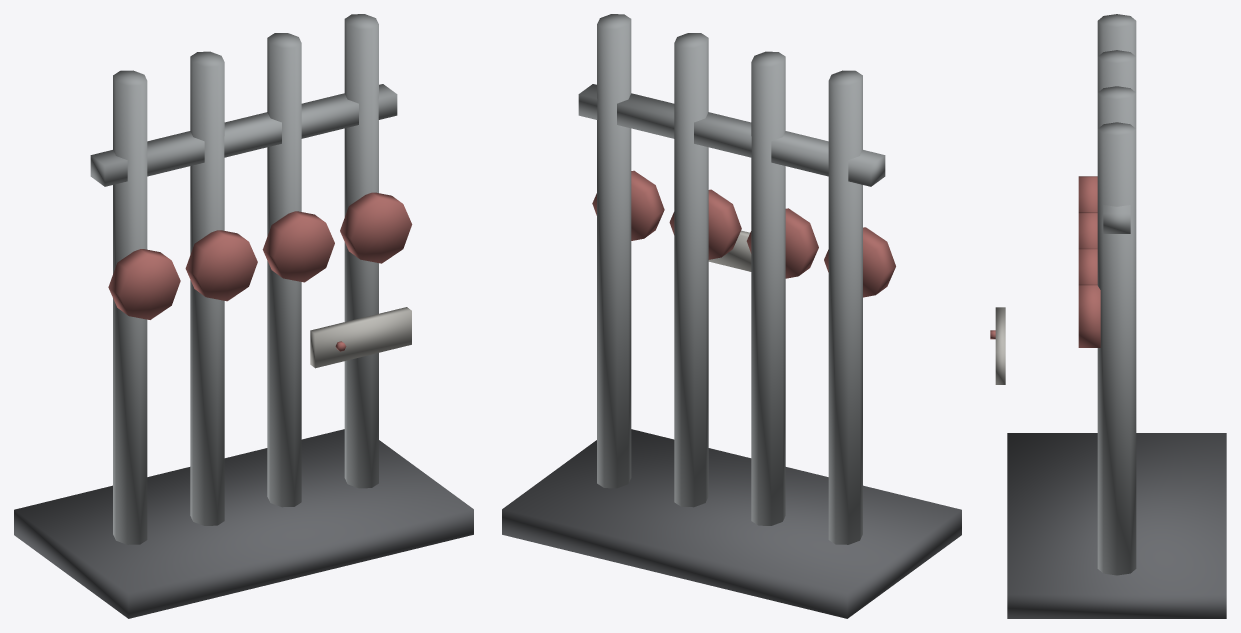
File: sprinkler_riser__deep.glb
3 renders of one model, left to right at view 1: azimuth 30°, elevation 25°; view 2: azimuth 150°, elevation 25°; view 3: azimuth 270°, elevation 25°, orthographic. The views are drawn at different scales.
Parts seen in each view (by area): view 1: world; view 2: world; view 3: world.
Boxes of the visible parts, x1,y1,x2,y2 form: world: (14, 14, 473, 618); world: (502, 14, 961, 618); world: (990, 14, 1226, 618).
Bounding box in the file's own units: 0.85 × 1.14 × 0.5258.
